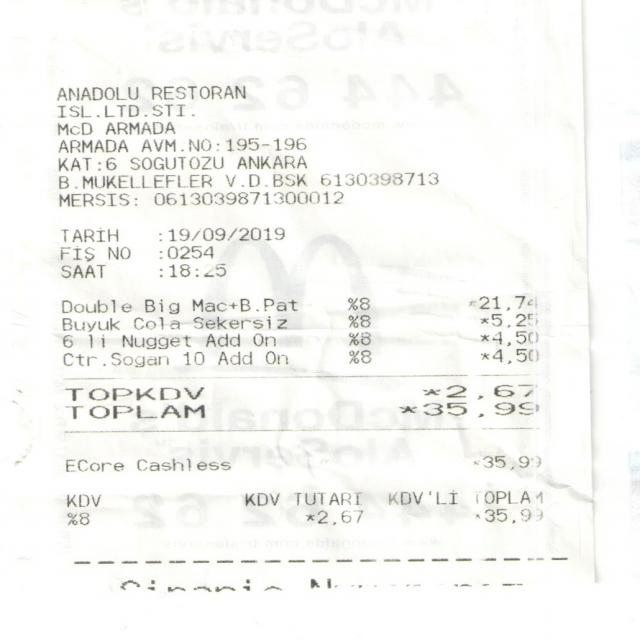text: (154, 190, 342, 205), (140, 137, 305, 151), (55, 174, 212, 188), (398, 401, 538, 416), (64, 404, 204, 418), (57, 103, 193, 117), (423, 382, 531, 399), (62, 351, 168, 368), (65, 387, 202, 400), (158, 227, 284, 241), (319, 172, 437, 186), (128, 155, 224, 171), (191, 298, 296, 312), (192, 315, 286, 329), (136, 457, 230, 471), (151, 86, 244, 100), (472, 453, 540, 470), (56, 86, 137, 100), (57, 192, 136, 206), (468, 294, 535, 310), (224, 173, 306, 186), (158, 262, 224, 277), (480, 347, 538, 364), (58, 138, 127, 152), (61, 299, 130, 313), (121, 334, 190, 348), (388, 490, 455, 504), (475, 508, 542, 522), (294, 491, 360, 505), (476, 490, 542, 504), (480, 330, 537, 346), (305, 509, 362, 525), (104, 121, 174, 134), (236, 155, 305, 168), (60, 228, 117, 242), (61, 316, 118, 330), (480, 312, 537, 326), (158, 245, 212, 259), (57, 157, 114, 170), (65, 458, 122, 471), (58, 244, 95, 261), (60, 263, 104, 277), (134, 316, 179, 328), (216, 350, 251, 365), (66, 493, 101, 507), (144, 299, 178, 313), (205, 332, 238, 346), (57, 121, 91, 134), (244, 492, 278, 505), (263, 350, 287, 364), (107, 245, 130, 259), (252, 332, 275, 346), (182, 350, 204, 364), (347, 296, 369, 310), (86, 332, 105, 348), (67, 511, 88, 525), (348, 332, 370, 345), (58, 332, 74, 349), (347, 314, 369, 326), (348, 350, 370, 362)
